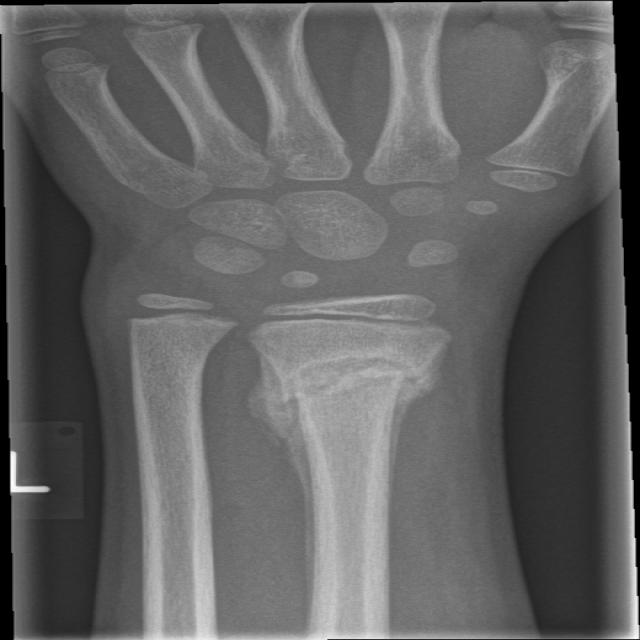radius fracture: (244, 352, 466, 511)
